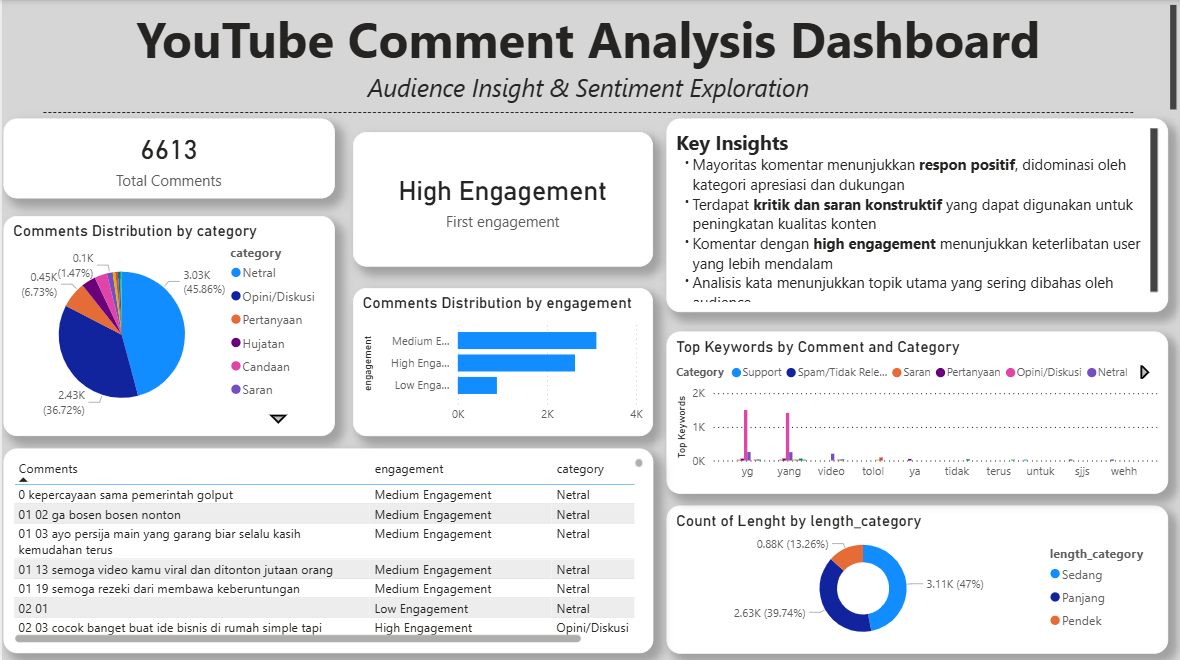

What the dashboard file says about the page in this screenshot:
{"tool":"powerbi","page":{"name":"Page 1","canvas":[1280,720],"ordinal":0},"visuals":[{"type":"card","fields":{"Values":["CountNonNull(youtube_clean_final_v2 (1).clean_comment)"]},"box":[1.7,128.8,359.3,86.4],"z":0},{"type":"card","fields":{"Values":["Min(youtube_clean_final_v2 (1).engagement)"]},"box":[381.3,142.3,325.4,145.7],"z":1000},{"type":"pieChart","fields":{"Category":["youtube_clean_final_v2 (1).category"],"Y":["CountNonNull(youtube_clean_final_v2 (1).clean_comment)"]},"box":[1.7,233.9,359.3,238.9],"z":2000},{"type":"clusteredBarChart","fields":{"Y":["CountNonNull(youtube_clean_final_v2 (1).clean_comment)"],"Category":["youtube_clean_final_v2 (1).engagement"]},"box":[381.3,311.8,325.4,161],"z":3000},{"type":"donutChart","fields":{"Y":["CountNonNull(youtube_clean_final_v2 (1).length_category)"],"Category":["youtube_clean_final_v2 (1).length_category"]},"box":[720.2,547.4,544,161],"z":4000},{"type":"clusteredColumnChart","fields":{"Category":["top_words (1).word"],"Series":["top_words (1).category"],"Y":["Sum(top_words (1).count)"]},"box":[720.2,359.3,544,176.2],"z":5000},{"type":"tableEx","fields":{"Values":["youtube_clean_final_v2 (1).clean_comment","youtube_clean_final_v2 (1).engagement","youtube_clean_final_v2 (1).category"]},"box":[1.7,486.4,705,222],"z":6000},{"type":"textbox","box":[0,0,1279.4,128.8],"z":7000},{"type":"textbox","box":[720.2,128.8,544,210.1],"z":8000}]}

Visuals, with their boxes in screenshot pixels (x1, y1, x2, y2), scaled from the page's 1280x720 canvas onto the 1180x660 screenshot:
card - CountNonNull(youtube_clean_final_v2 (1).clean_comment): 2, 118, 333, 197
card - Min(youtube_clean_final_v2 (1).engagement): 352, 130, 651, 264
pieChart - youtube_clean_final_v2 (1).category x CountNonNull(youtube_clean_final_v2 (1).clean_comment): 2, 214, 333, 433
clusteredBarChart - CountNonNull(youtube_clean_final_v2 (1).clean_comment) x youtube_clean_final_v2 (1).engagement: 352, 286, 651, 433
donutChart - CountNonNull(youtube_clean_final_v2 (1).length_category) x youtube_clean_final_v2 (1).length_category: 664, 502, 1165, 649
clusteredColumnChart - top_words (1).word x top_words (1).category: 664, 329, 1165, 491
tableEx - youtube_clean_final_v2 (1).clean_comment x youtube_clean_final_v2 (1).engagement: 2, 446, 651, 649
textbox: 0, 0, 1179, 118
textbox: 664, 118, 1165, 311
